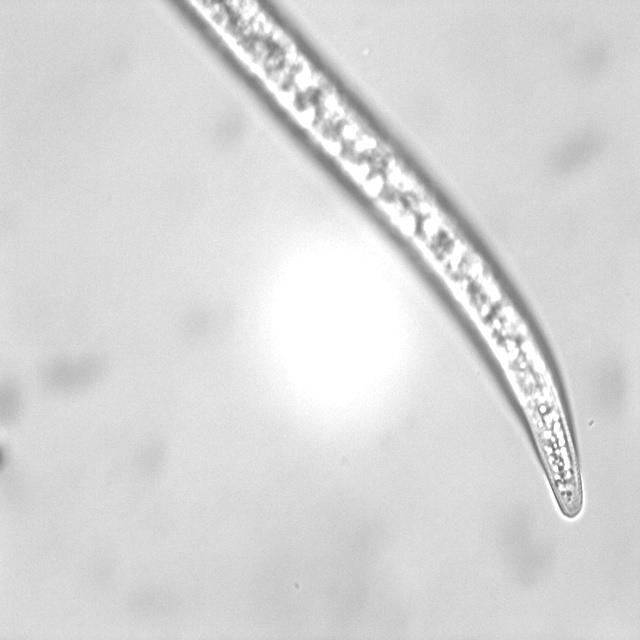Pratylenchus: (369, 157, 597, 522)
